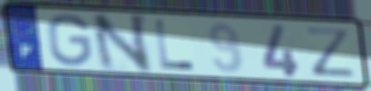4: (260, 21, 302, 80)
9: (207, 20, 246, 75)
G: (46, 12, 94, 69)
L: (152, 18, 198, 72)
N: (88, 13, 154, 74)
Z: (302, 26, 357, 79)
